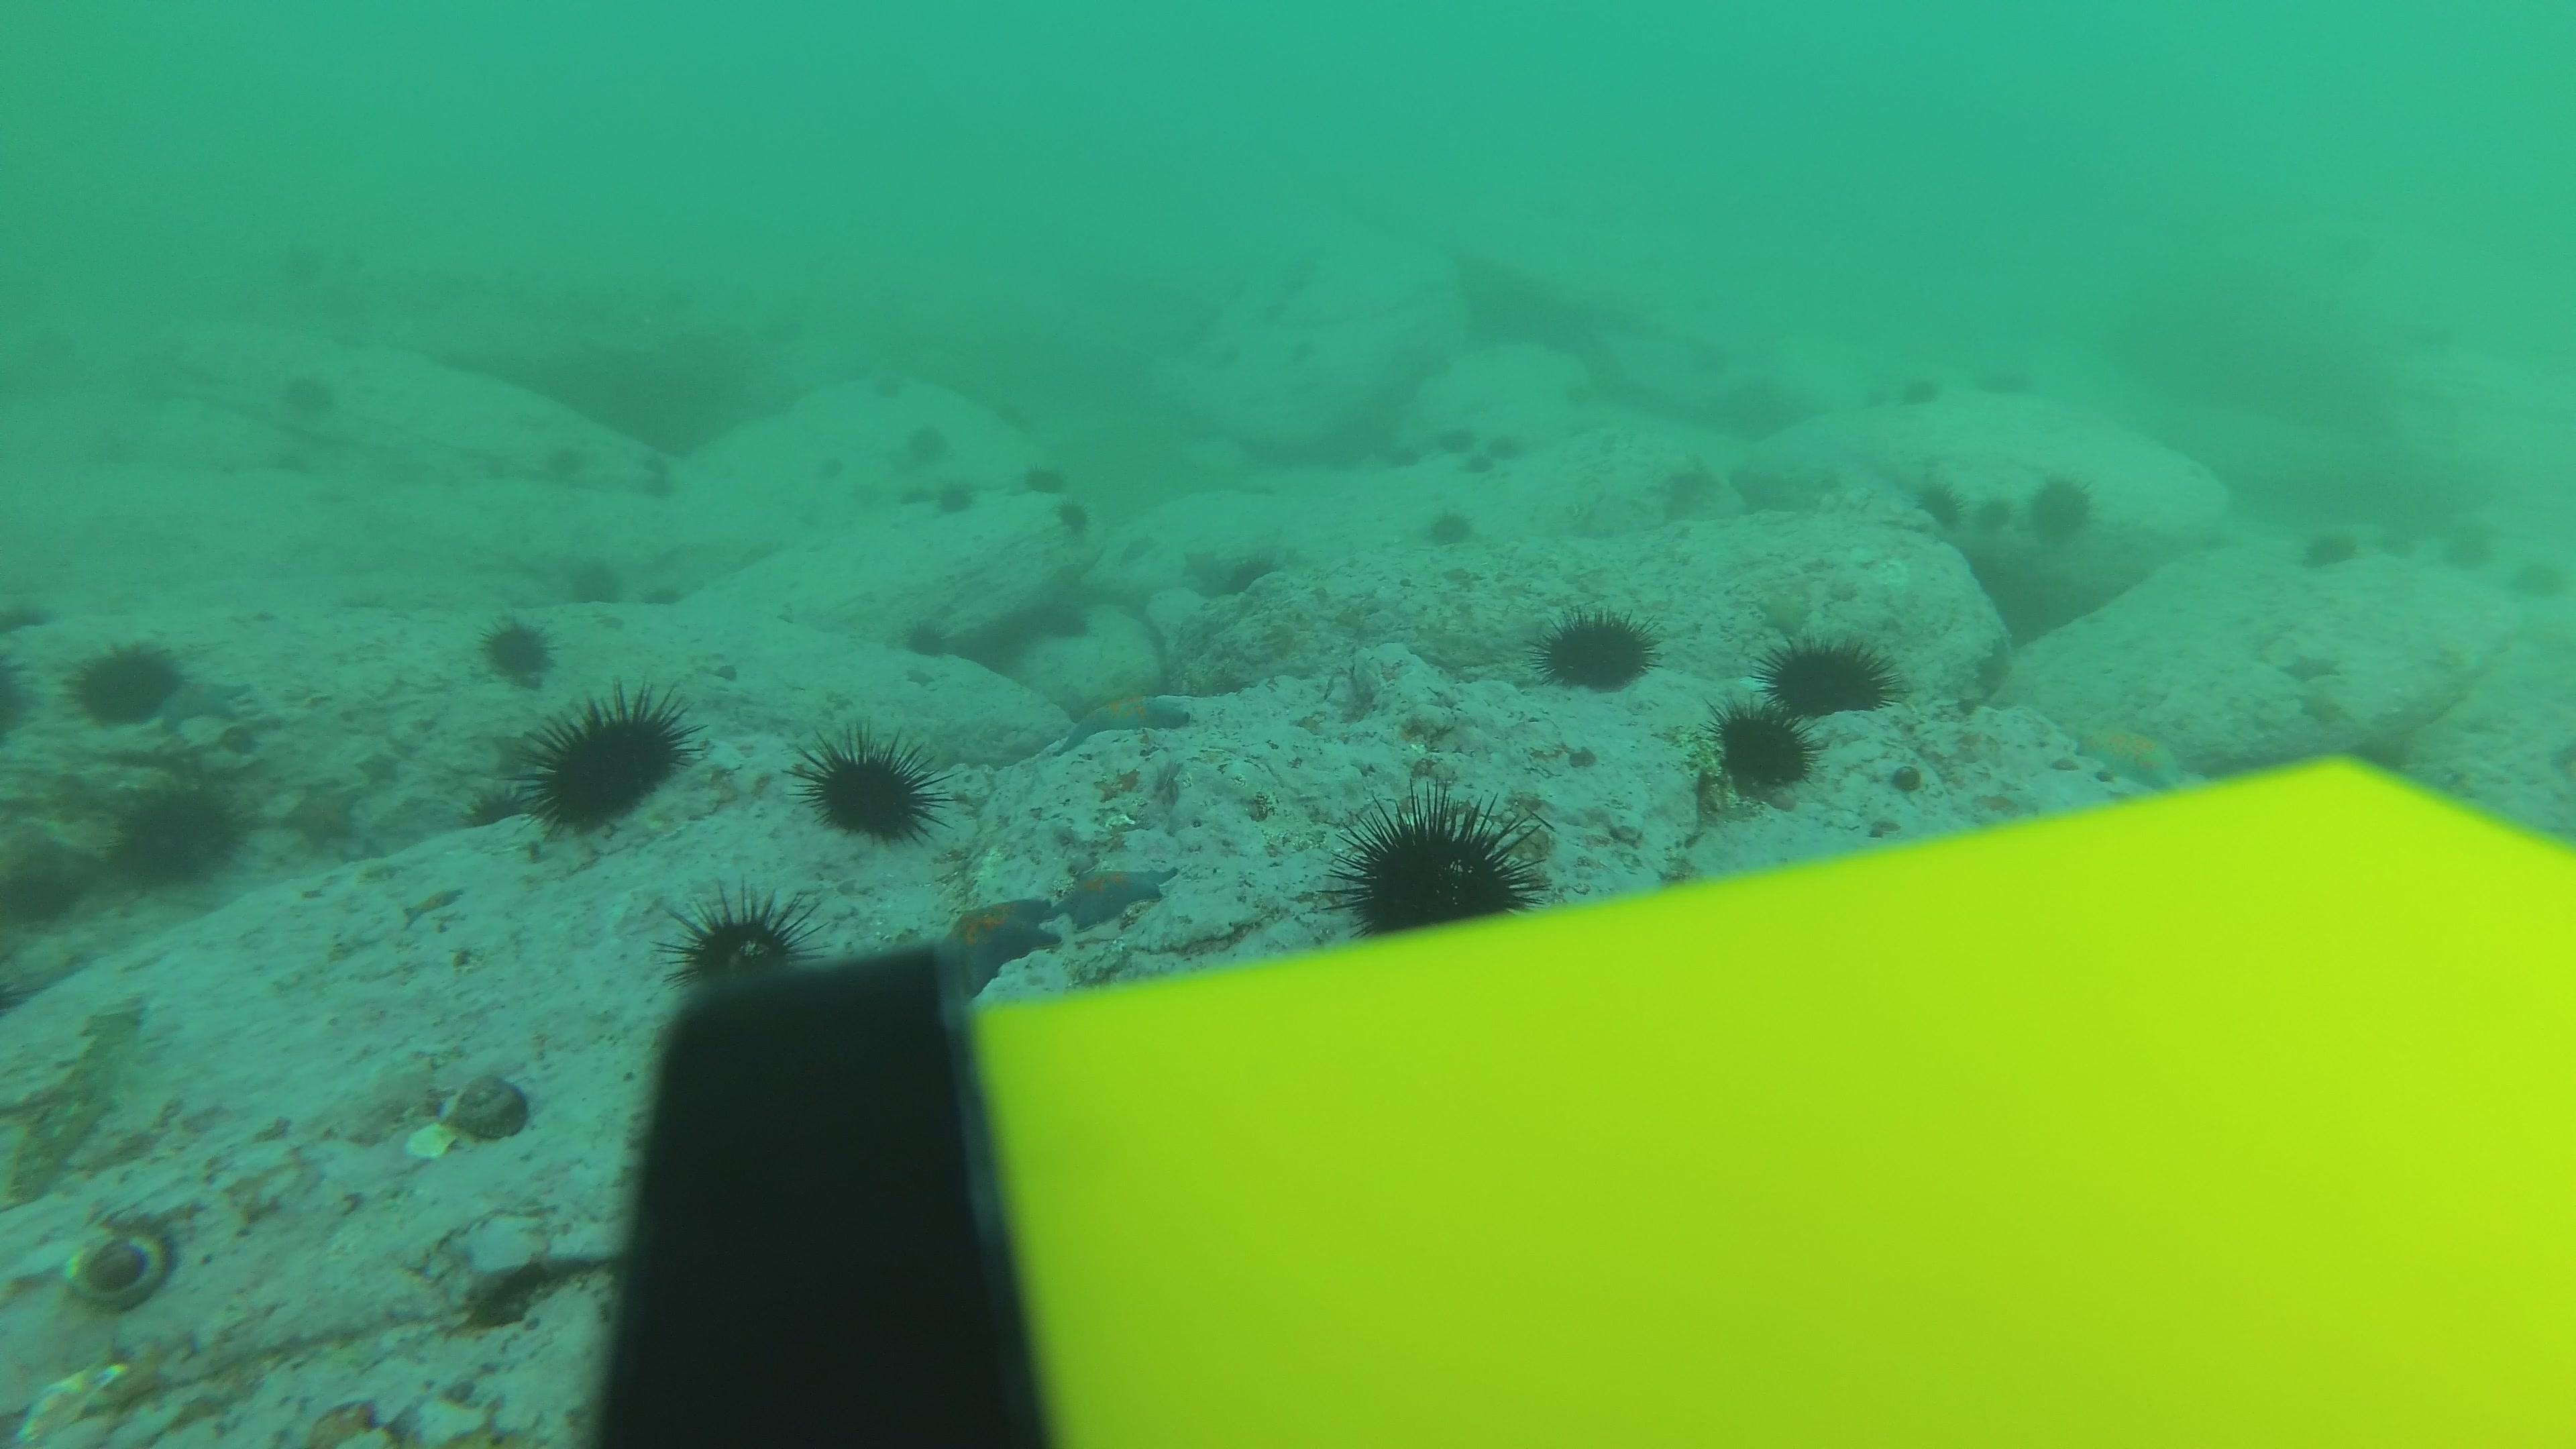echinus: (1330, 791, 1543, 934), (518, 685, 694, 835), (801, 727, 939, 847), (669, 888, 812, 996), (110, 780, 246, 893), (1762, 628, 1895, 722), (67, 633, 189, 731), (1536, 603, 1656, 697), (1707, 699, 1817, 800), (2022, 469, 2098, 548), (478, 614, 556, 686), (2293, 531, 2364, 579), (2503, 557, 2574, 603), (1911, 474, 1966, 533), (2440, 531, 2509, 577), (1226, 550, 1292, 598), (1978, 364, 2038, 409), (1422, 502, 1476, 552), (278, 377, 333, 421), (255, 441, 310, 485), (272, 241, 327, 285), (902, 419, 955, 464), (1691, 338, 1741, 384), (2373, 518, 2419, 566), (640, 577, 692, 619), (1973, 488, 2019, 534), (1897, 370, 1943, 416), (570, 570, 621, 610), (1435, 421, 1483, 458), (1384, 441, 1431, 478), (1019, 462, 1067, 499), (1049, 603, 1095, 640), (904, 619, 950, 656), (1054, 497, 1102, 533), (934, 483, 982, 518), (895, 479, 943, 513), (810, 449, 858, 483), (863, 370, 911, 403), (994, 396, 1042, 430), (637, 471, 685, 504), (635, 449, 683, 483), (545, 444, 593, 478), (755, 310, 801, 343), (1488, 426, 1523, 464), (1465, 448, 1500, 483), (1284, 336, 1322, 368), (1562, 377, 1598, 409)
starfish: (924, 892, 1063, 1008), (2065, 709, 2196, 793), (1047, 856, 1178, 932), (1058, 683, 1198, 745), (154, 671, 253, 729), (287, 778, 364, 851), (2270, 639, 2346, 685), (400, 878, 469, 927), (2296, 681, 2348, 732), (1757, 589, 1812, 635), (356, 743, 405, 787), (902, 660, 943, 697), (1182, 547, 1224, 582), (1118, 531, 1161, 566), (846, 478, 886, 513)
